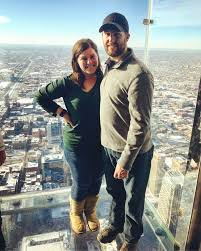Bad: (36, 12, 154, 251)
